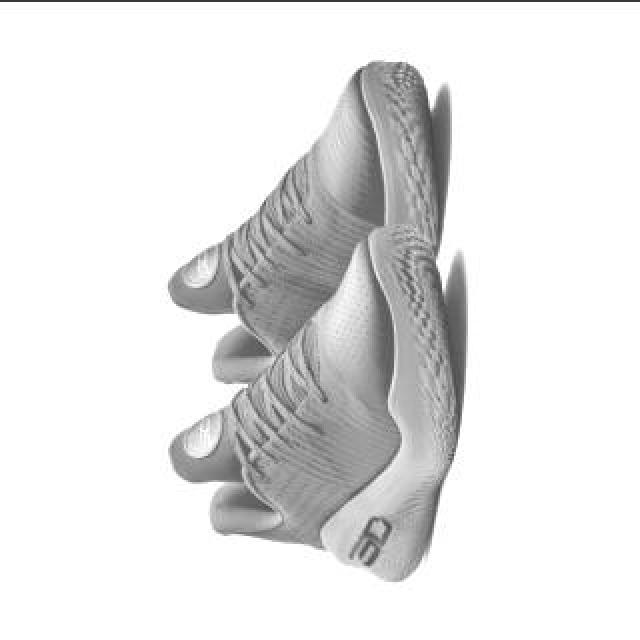shoe: (167, 221, 459, 579), (169, 57, 437, 405)
